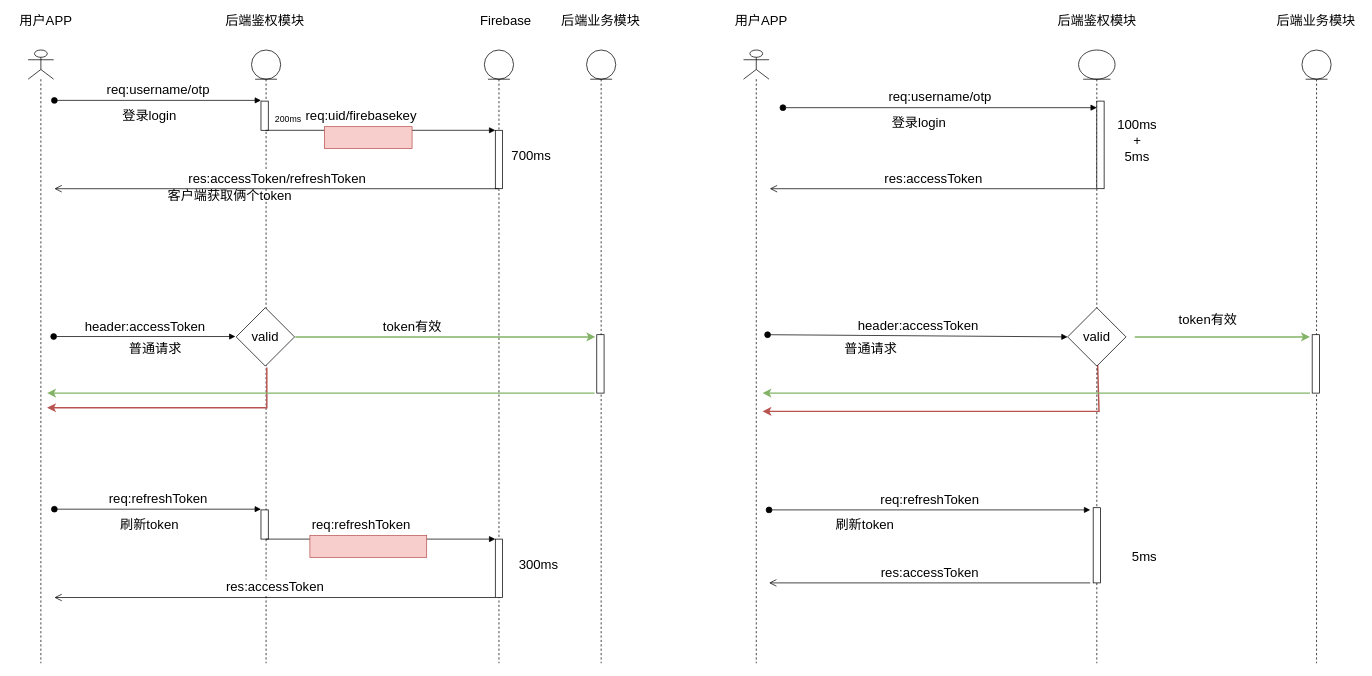
Image size: 1372x676. Some labels were removed from this diagram. Here are the shapes that lost their labels. From the top down, the centre of each, then its label:
At point (368, 137): "firebase登录".
At point (368, 546): "firebase刷新token".
